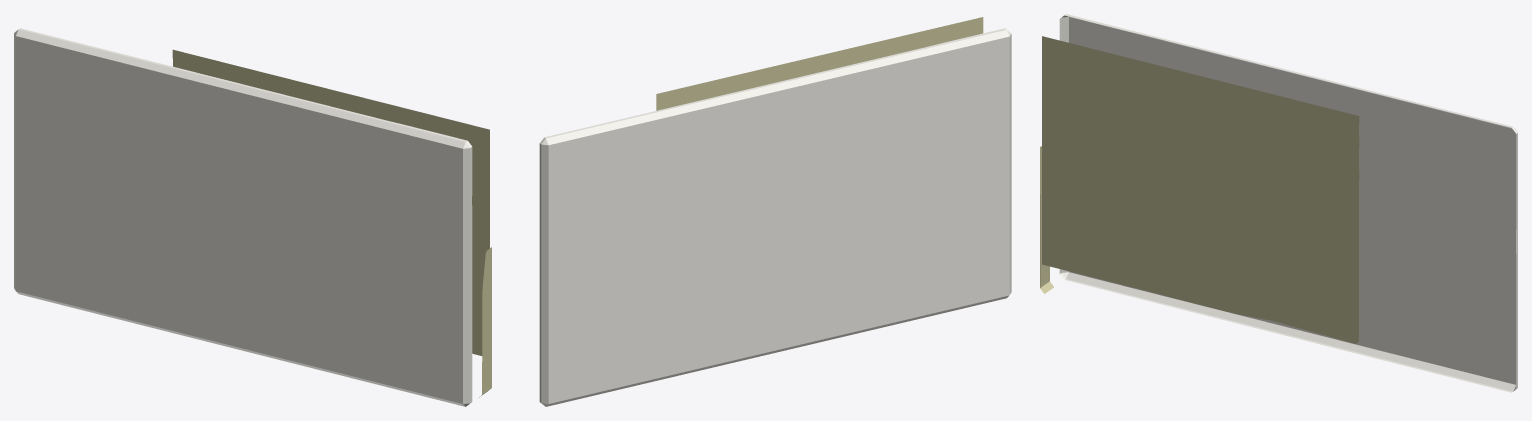
File: Paper_005.fbx
The picture shows the model from 3 angles, left to right: view 1: azimuth 90°, elevation 25°; view 2: azimuth 150°, elevation 25°; view 3: azimuth 270°, elevation 25°; orthographic projection.
Visible parts, largest first — view 1: Paper_005; view 2: Paper_005; view 3: Paper_005.
Boxes of the visible parts, x1=… form: Paper_005: x1=14, y1=28, x2=491, y2=406; Paper_005: x1=539, y1=17, x2=1011, y2=406; Paper_005: x1=1040, y1=14, x2=1517, y2=392.
Size of the model in its own units: 0.3895 by 0.3644 by 0.596.
